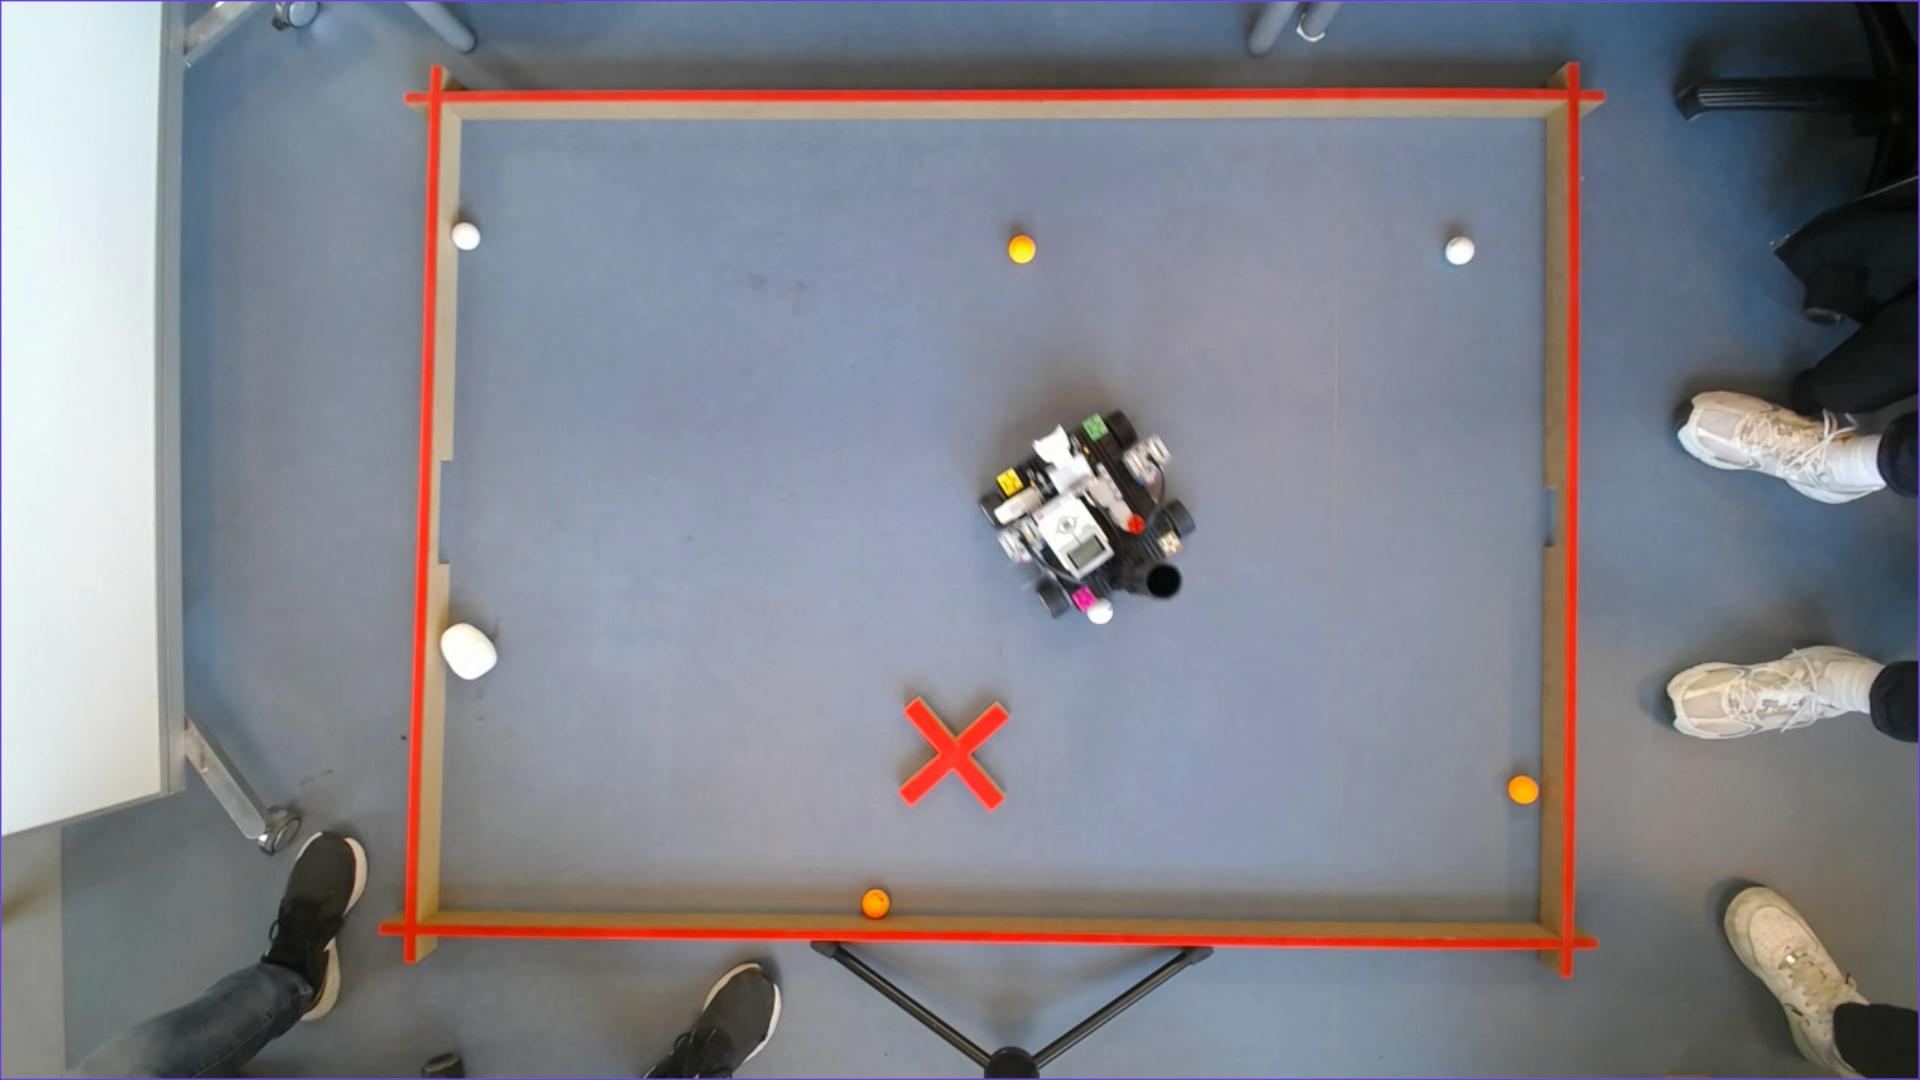ball_orange: (1507, 775, 1540, 803), (1007, 235, 1036, 265), (861, 887, 889, 919)
ball_white: (1445, 233, 1476, 265), (452, 222, 480, 252), (1087, 596, 1113, 624)
corner_brown: (1156, 531, 1185, 556)
corner_green: (1083, 411, 1109, 440)
corner_pink: (1072, 585, 1098, 611)
corner_yellow: (996, 468, 1025, 495)
cross: (899, 696, 1007, 811)
egg: (435, 621, 498, 680)
playfield: (396, 87, 1581, 955)
